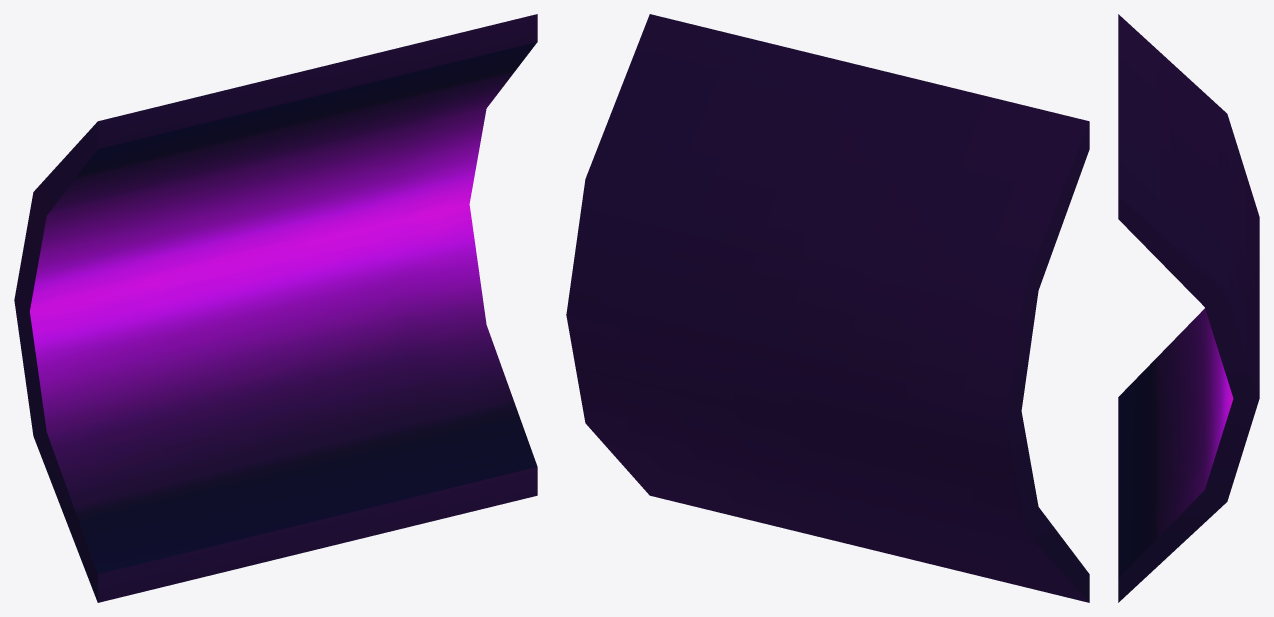
The model's file is urban_wall.gltf.
3 renders of one model, left to right at view 1: azimuth 30°, elevation 25°; view 2: azimuth 150°, elevation 25°; view 3: azimuth 270°, elevation 25°, orthographic. The views are drawn at different scales.
Parts seen in each view (by area): view 1: urban_wall_glb; view 2: urban_wall_glb; view 3: urban_wall_glb.
Part boxes in pixels (box(x1,y1,x2,y2)): urban_wall_glb: box(14, 14, 537, 602); urban_wall_glb: box(566, 14, 1089, 602); urban_wall_glb: box(1118, 14, 1259, 602).
Size of what is drawn, in the model's own units: 4 by 4.19 by 1.32.
Materials: 1 (1 with a texture image).
